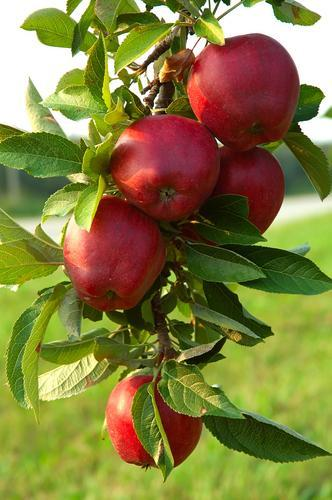apple: (185, 34, 304, 150), (108, 114, 218, 222), (63, 200, 168, 310), (101, 367, 205, 468), (210, 147, 284, 234)
